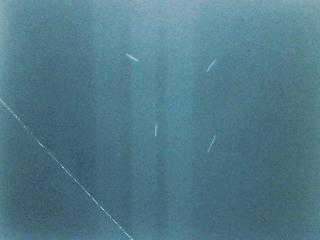crack: (0, 99, 130, 240)
scratch: (201, 130, 220, 160), (148, 117, 165, 145), (123, 49, 145, 68), (202, 54, 220, 76)
